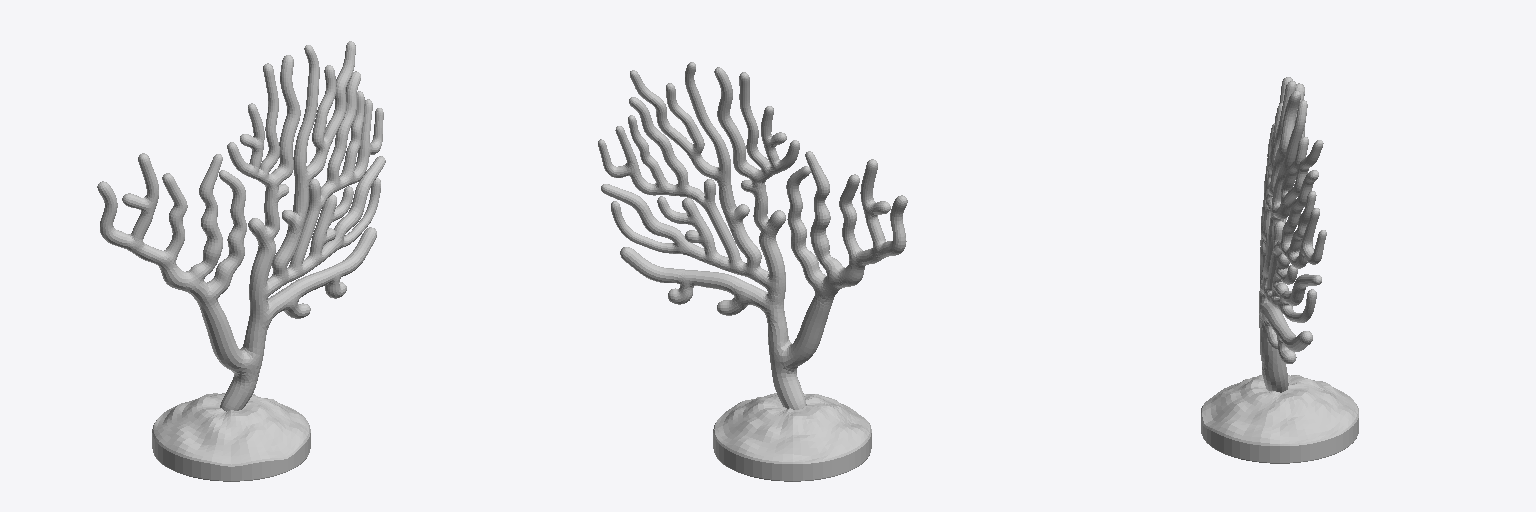
File: coral2.obj
3 renders of one model, left to right at view 1: azimuth 30°, elevation 25°; view 2: azimuth 150°, elevation 25°; view 3: azimuth 270°, elevation 25°, orthographic.
Visible parts, largest first — view 1: 21487_Gorgonian_Soft_Coral_v1; view 2: 21487_Gorgonian_Soft_Coral_v1; view 3: 21487_Gorgonian_Soft_Coral_v1.
Boxes of the visible parts, box(x1,y1,x2,y2) form: 21487_Gorgonian_Soft_Coral_v1: box(97, 41, 385, 481); 21487_Gorgonian_Soft_Coral_v1: box(598, 62, 907, 481); 21487_Gorgonian_Soft_Coral_v1: box(1201, 77, 1358, 463).
Bounding box in the file's own units: 0.5974 × 0.7181 × 0.2764.